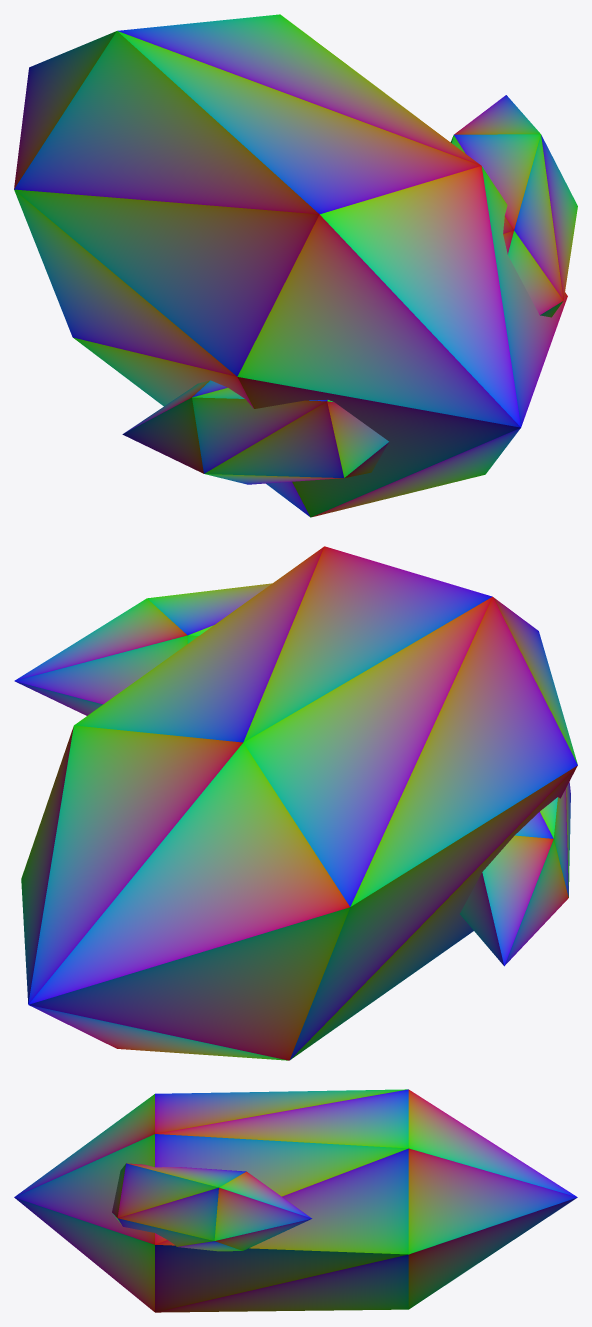
Rendered from SM_CorruptCrystal.fbx.
The picture shows the model from 3 angles, top to bottom: view 1: azimuth 30°, elevation 25°; view 2: azimuth 150°, elevation 25°; view 3: azimuth 270°, elevation 25°; orthographic projection. The views are drawn at different scales.
Parts seen in each view (by area): view 1: SM_CorruptCrystal; view 2: SM_CorruptCrystal; view 3: SM_CorruptCrystal.
Part boxes in pixels (left/top/right/bottom): SM_CorruptCrystal: left=14, top=14, right=577, bottom=517; SM_CorruptCrystal: left=14, top=546, right=577, bottom=1060; SM_CorruptCrystal: left=14, top=1089, right=577, bottom=1312.
Bounding box in the file's own units: 60.29 × 43.71 × 120.
